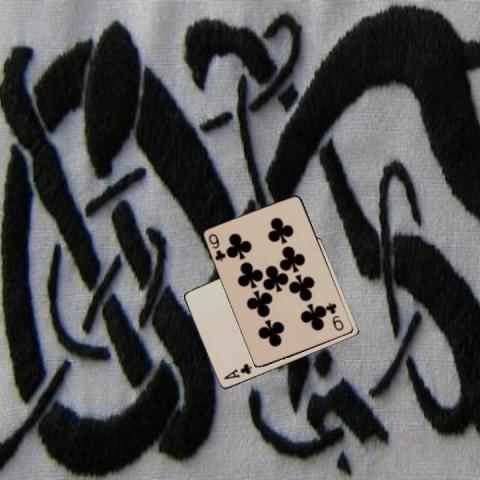9c: (206, 230, 227, 262), (325, 300, 345, 333)
Ac: (222, 360, 254, 380)
